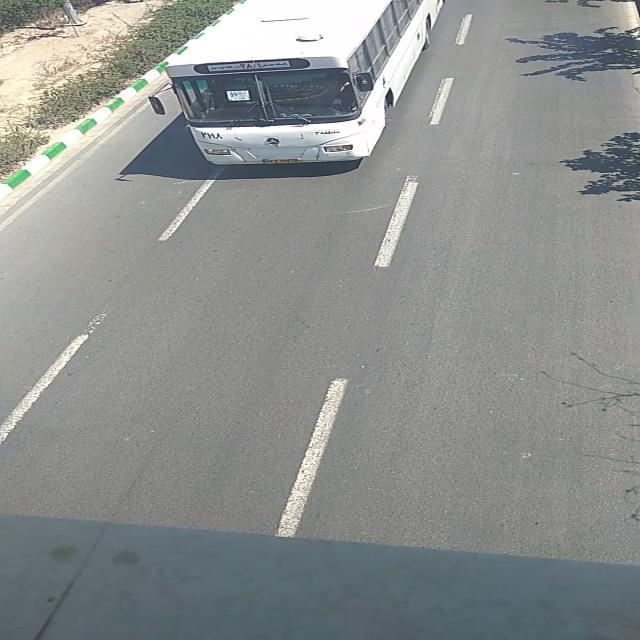bus: (148, 1, 446, 165)
